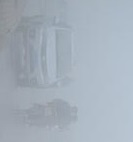person: (26, 113, 81, 131), (25, 97, 79, 115)
